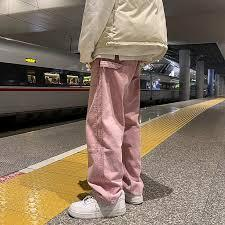pants: (78, 54, 159, 203)
